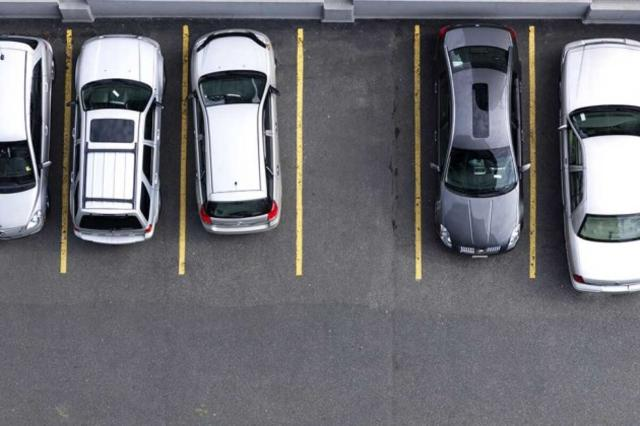Empty-Filled: (302, 27, 416, 280)
Filled: (418, 28, 534, 282), (187, 29, 297, 284), (538, 29, 640, 295), (70, 29, 182, 267)
